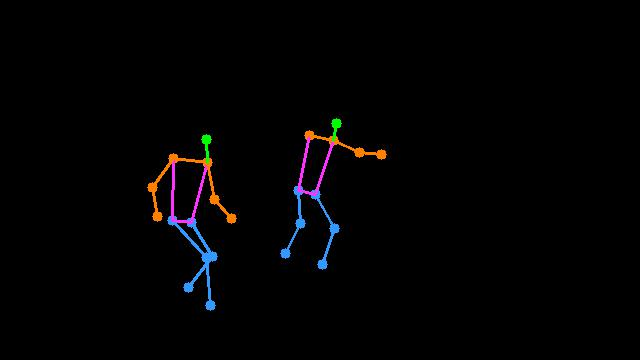normal: (133, 116, 251, 317), (270, 111, 407, 276)
